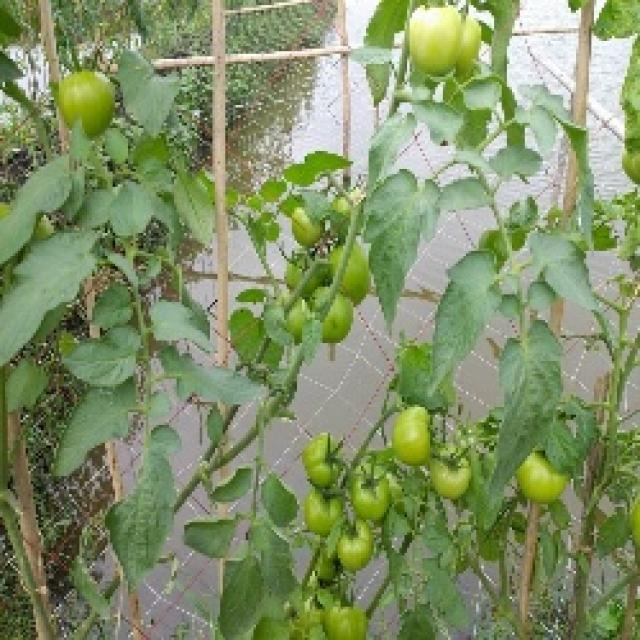tomato: (61, 61, 121, 137), (402, 4, 464, 74), (518, 447, 576, 504), (419, 444, 476, 496), (329, 505, 380, 562), (332, 244, 377, 300), (390, 405, 432, 465), (312, 285, 358, 339), (460, 10, 491, 80), (329, 597, 372, 640), (303, 485, 339, 535), (310, 437, 348, 483), (351, 469, 387, 517), (286, 210, 322, 247), (281, 254, 313, 288)
